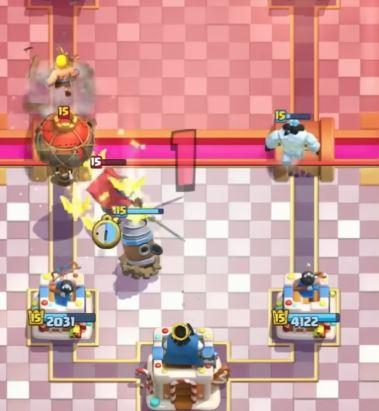EBalloon: (33, 105, 93, 185)
OBarb: (45, 50, 80, 95)
OGoblinDrill: (119, 219, 162, 278)
OIceGolem: (265, 111, 320, 165)
OwnKingTower: (142, 323, 228, 410)
OwnPrincessTower: (27, 264, 95, 342), (272, 271, 339, 340)
